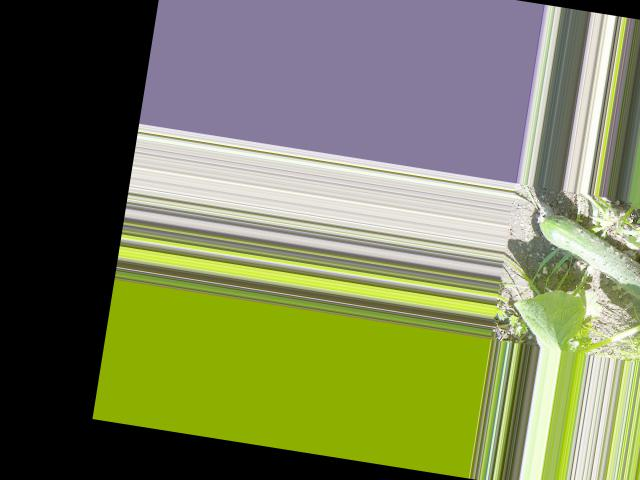cucumber: (528, 211, 640, 304)
